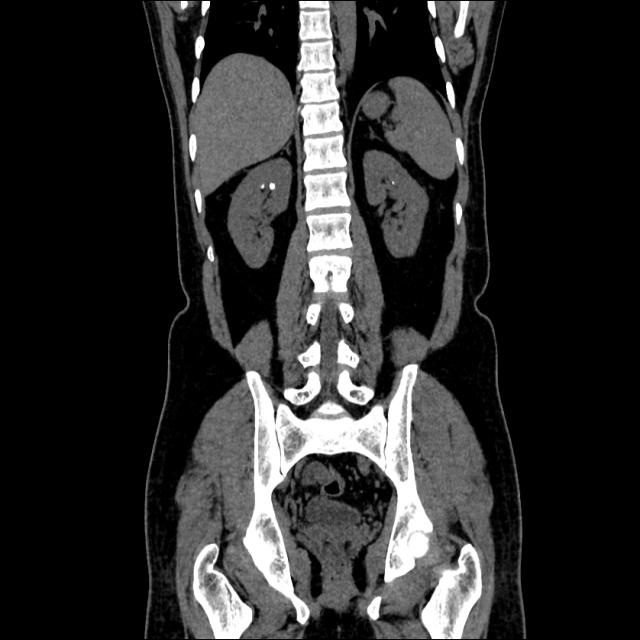kidneystone: (269, 182, 275, 190), (261, 184, 264, 189)
